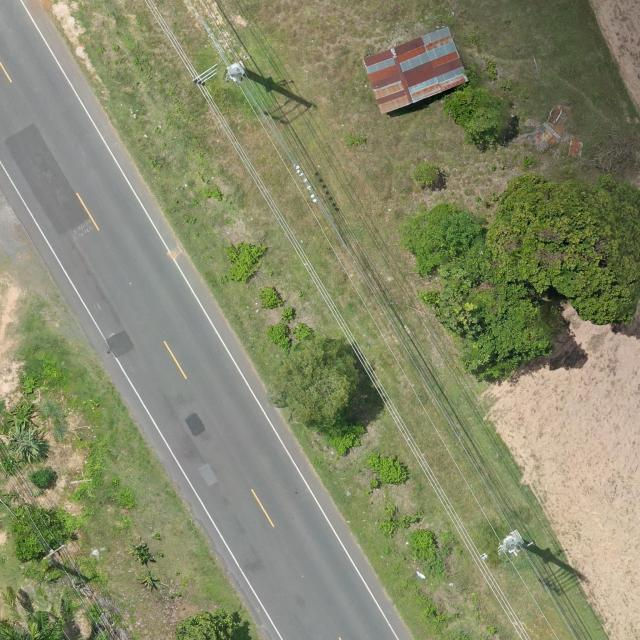Tree: (482, 172, 640, 328), (458, 282, 554, 384), (267, 336, 361, 428), (0, 585, 111, 640), (443, 84, 509, 145), (10, 509, 64, 564), (3, 422, 52, 464), (174, 608, 236, 640), (408, 161, 441, 188), (5, 402, 39, 428)
